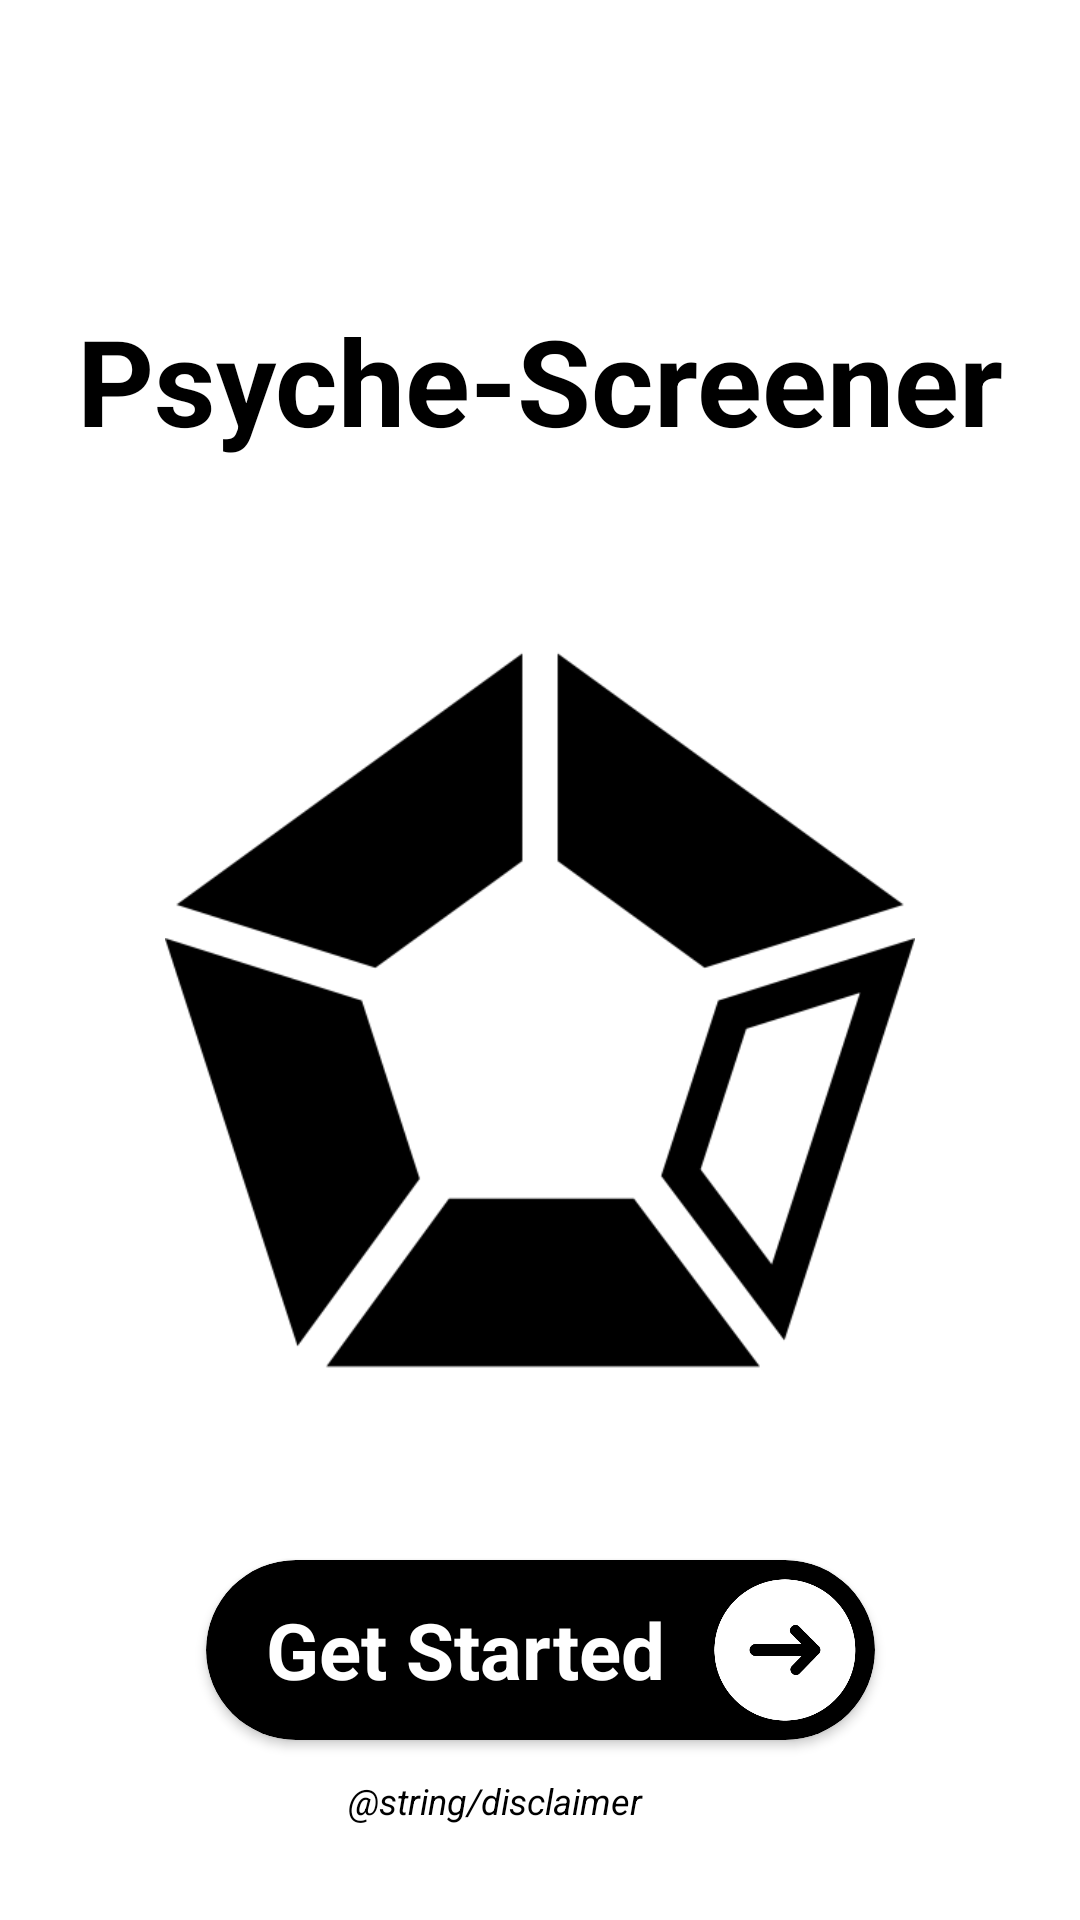

Screen size 1080 × 1920. Icon name, then its box in pixels as {"left": x1, "top": y1, "right": x2, "bottom": y2}:
arrow right: {"left": 695, "top": 1560, "right": 875, "bottom": 1740}
